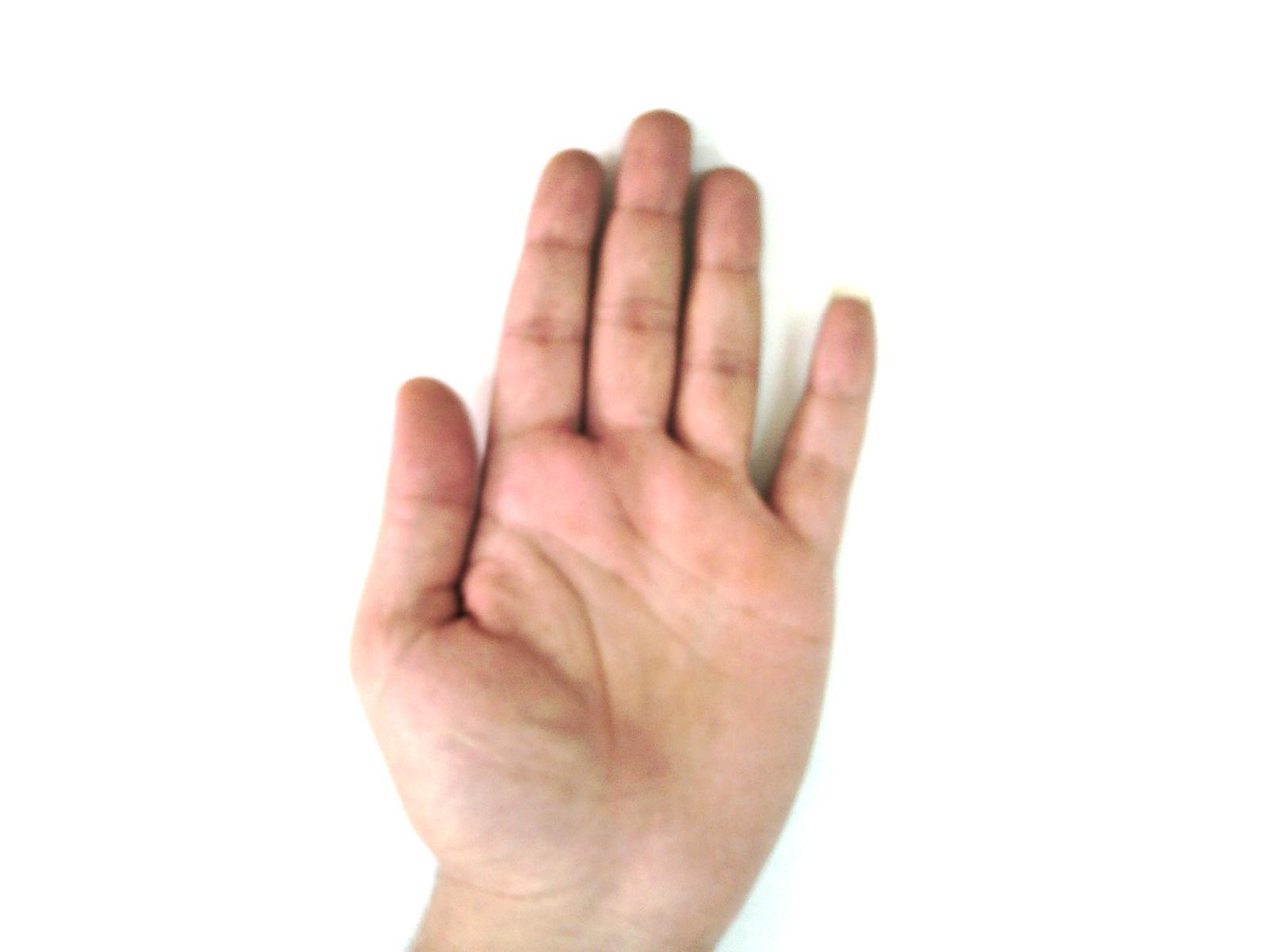open_palm: (347, 109, 881, 949)
